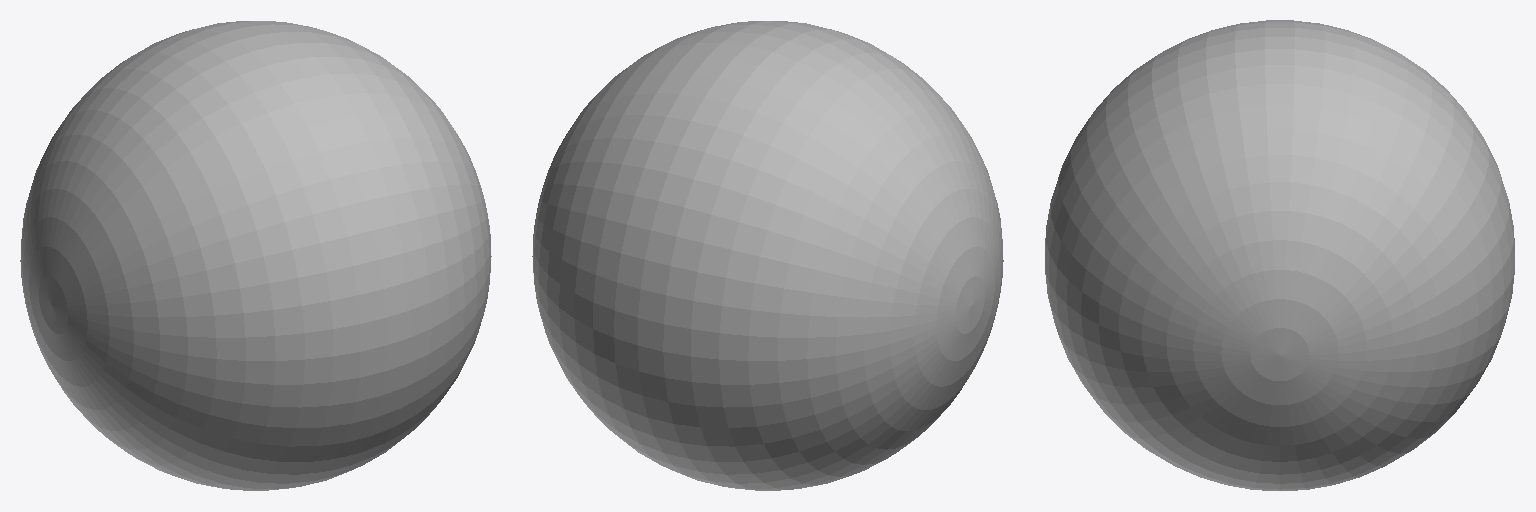
robot.urdf — 7.6IN_Diam_Sphere.SLDPRT:
<?xml version="1.0" encoding="utf-8"?>
<!-- This URDF was automatically created by SolidWorks to URDF Exporter! Originally created by [author] ([email redacted]) 
     Commit Version: 1.5.1-0-g916b5db  Build Version: 1.5.7152.31018
     For more information, please see http://wiki.ros.org/sw_urdf_exporter -->
<robot
  name="7.6IN_Diam_Sphere.SLDPRT">
  <link
    name="7.6IN_Diam_Sphere.SLDPRT">
    <inertial>
      <origin
        xyz="0 1.35704753098827E-34 2.2163E-18"
        rpy="0 0 0" />
      <mass
        value="3.7665" />
      <inertia
        ixx="0.014036"
        ixy="0"
        ixz="0"
        iyy="0.014036"
        iyz="0"
        izz="0.014036" />
    </inertial>
    <visual>
      <origin
        xyz="0 0 0"
        rpy="1.5707963267949 0 0" />
      <geometry>
        <mesh
          filename="package://7.6IN_Diam_Sphere.SLDPRT/meshes/7.6IN_Diam_Sphere.SLDPRT.STL" />
      </geometry>
      <material
        name="">
        <color
          rgba="0.74902 0.74902 0.74902 1" />
        <texture
          filename="package://7.6IN_Diam_Sphere.SLDPRT/textures/" />
      </material>
    </visual>
    <collision>
      <origin
        xyz="0 0 0"
        rpy="1.5707963267949 0 0" />
      <geometry>
        <mesh
          filename="package://7.6IN_Diam_Sphere.SLDPRT/meshes/7.6IN_Diam_Sphere.SLDPRT.STL" />
      </geometry>
    </collision>
  </link>
</robot>

--- Render facts (derived) ---
Views: 3 orthographic renders of the robot side by side, from view 1: azimuth 30°, elevation 25°; view 2: azimuth 150°, elevation 25°; view 3: azimuth 270°, elevation 25°.
Robot: 7.6IN_Diam_Sphere.SLDPRT — 1 links, 0 joints (none); root link 7.6IN_Diam_Sphere.SLDPRT; default pose: every joint at zero.
Links seen in each view (by area): view 1: 7.6IN_Diam_Sphere.SLDPRT; view 2: 7.6IN_Diam_Sphere.SLDPRT; view 3: 7.6IN_Diam_Sphere.SLDPRT.
Link boxes in pixels (x1=…): 7.6IN_Diam_Sphere.SLDPRT: x1=20, y1=21, x2=491, y2=490; 7.6IN_Diam_Sphere.SLDPRT: x1=532, y1=21, x2=1003, y2=490; 7.6IN_Diam_Sphere.SLDPRT: x1=1045, y1=20, x2=1514, y2=490.
Size in the robot's own frame: 0.193 by 0.1926 by 0.1925 metres.
1 mesh visuals loaded from 1 distinct referenced files (1 binary STL).
